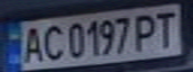0: (63, 19, 84, 58)
1: (81, 17, 100, 56)
7: (112, 14, 136, 54)
9: (97, 16, 118, 56)
A: (18, 24, 45, 64)
C: (39, 21, 66, 62)
P: (130, 10, 160, 52)
T: (151, 8, 181, 50)
